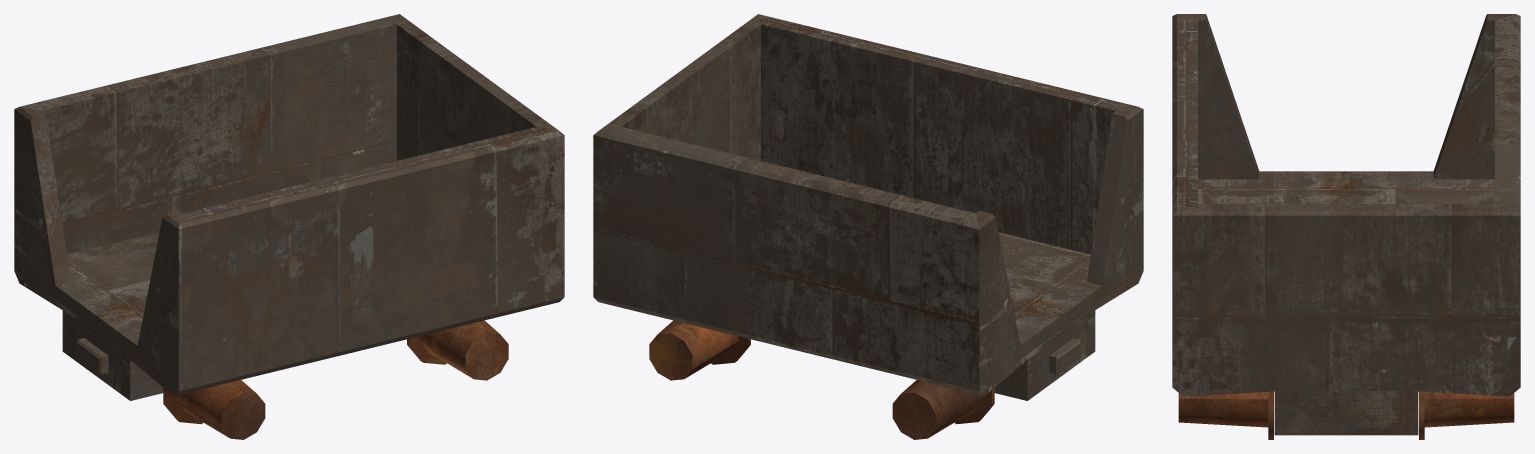
Rendered from minecart.glb.
3 views of the same model, side by side, from view 1: azimuth 30°, elevation 25°; view 2: azimuth 150°, elevation 25°; view 3: azimuth 270°, elevation 25° (orthographic). The views are drawn at different scales.
Visible parts, largest first — view 1: Cube, Cylinder; view 2: Cube, Cylinder; view 3: Cube, Cylinder.
Boxes of the visible parts, left/top/right/bottom form: Cube: left=14, top=14, right=564, bottom=400; Cylinder: left=163, top=320, right=508, bottom=439; Cube: left=593, top=14, right=1143, bottom=400; Cylinder: left=649, top=320, right=994, bottom=439; Cube: left=1172, top=14, right=1520, bottom=435; Cylinder: left=1178, top=391, right=1514, bottom=439.
Size of the model in its own units: 1.46 by 0.8776 by 1.05.
2 materials, 2 textured.
